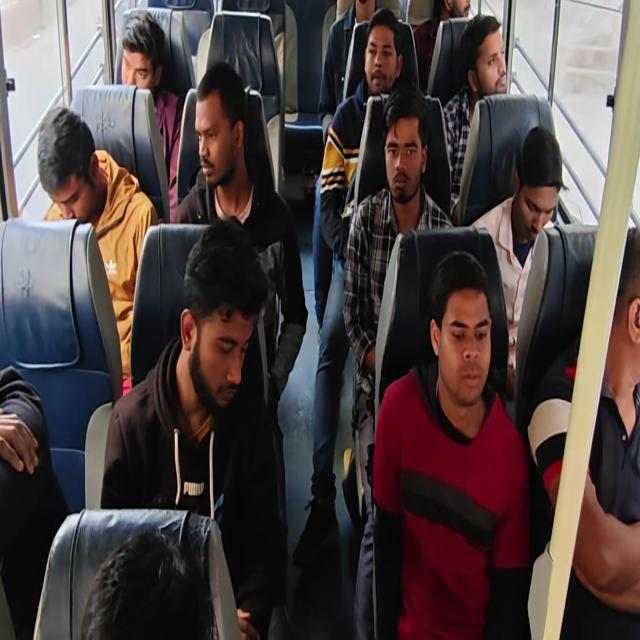person: (183, 211, 272, 429), (74, 512, 206, 640), (431, 249, 496, 430), (26, 96, 105, 227), (191, 64, 263, 198), (595, 221, 640, 384), (511, 115, 569, 241), (383, 84, 426, 223), (463, 13, 522, 98), (364, 0, 408, 96), (120, 11, 168, 95), (440, 0, 480, 45), (353, 0, 398, 25)
